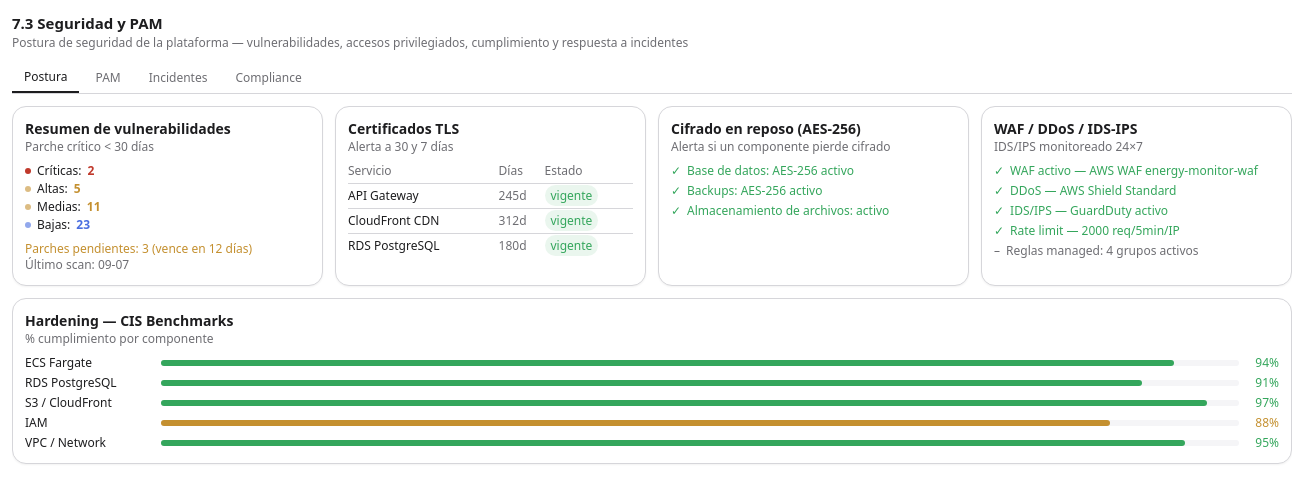
Test: SeguridadPamPage › renders EDR section
Click the button "Incidentes": (178, 78) x1=137 y1=62 x2=220 y2=92
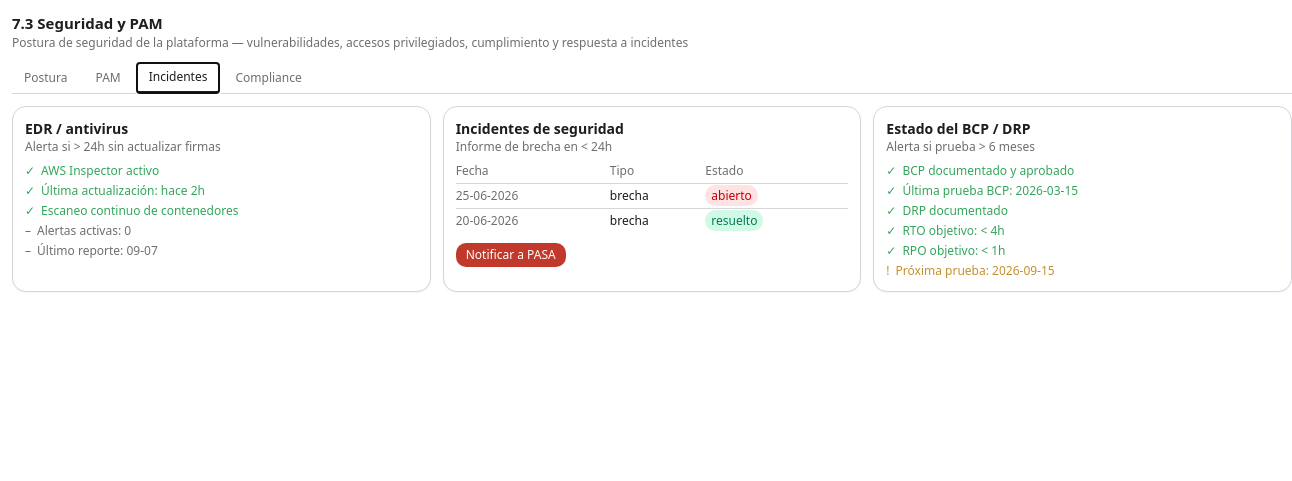
Check: the heading "EDR / antivirus" is shown, box x1=25 y1=118 x2=128 y2=138
Check: the list item "✓ AWS Inspector activo" is shown, box x1=25 y1=162 x2=159 y2=178
